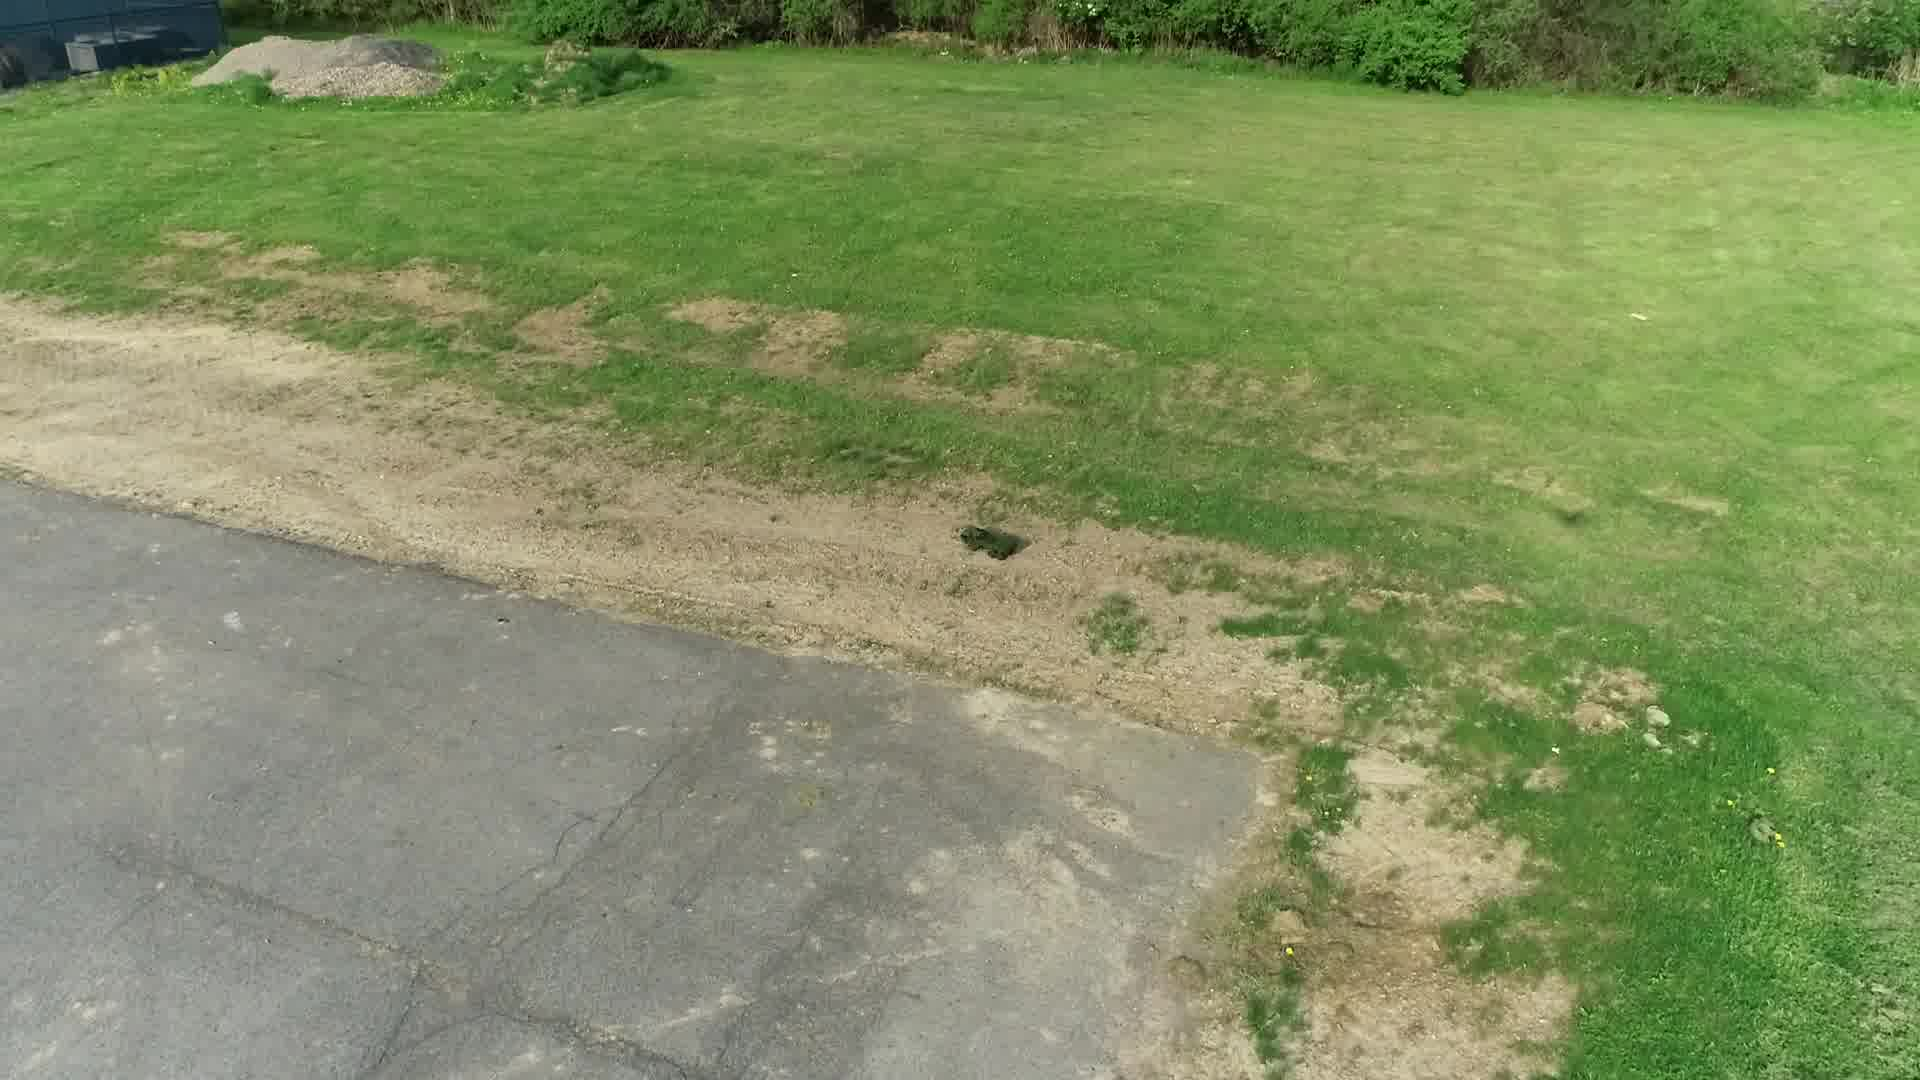transporter9: (955, 524, 1023, 560)
